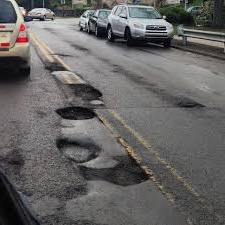pothole: (77, 150, 156, 195), (44, 103, 99, 124), (52, 141, 102, 162), (60, 79, 106, 100), (172, 99, 206, 113), (42, 62, 70, 74)
